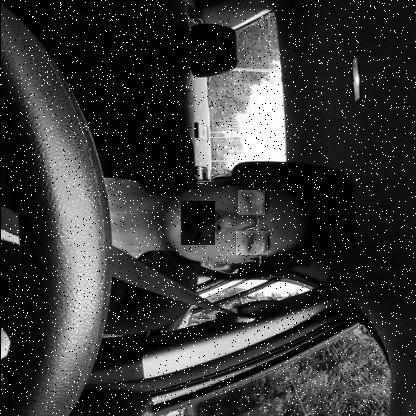seatbelt: (0, 157, 340, 297)
